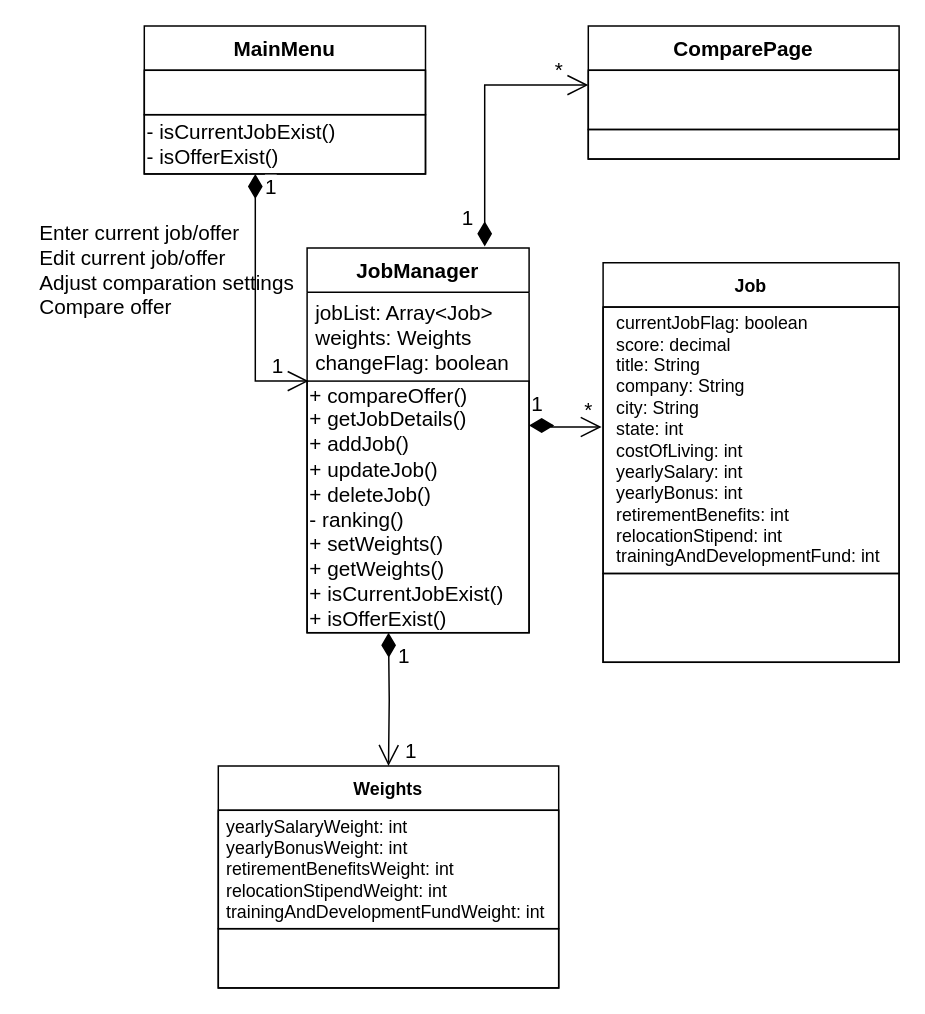
Some shapes in this 925 by 1014 pixel diagram are drawn without their labels. Each missing label, with the box of its shape:
+ create() + update() + get(): (602, 572, 899, 662)
+ setJobList(): (587, 128, 899, 159)
+ setWeights() + getWeights(): (217, 927, 559, 988)
jobManager: JobManager: (143, 69, 426, 115)
jobSelectedIndex: int[2] jobList: Array: (587, 69, 899, 130)
